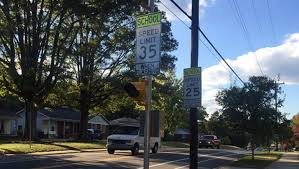speedLimit25: (180, 75, 203, 98)
speedLimit35: (133, 25, 160, 64)
